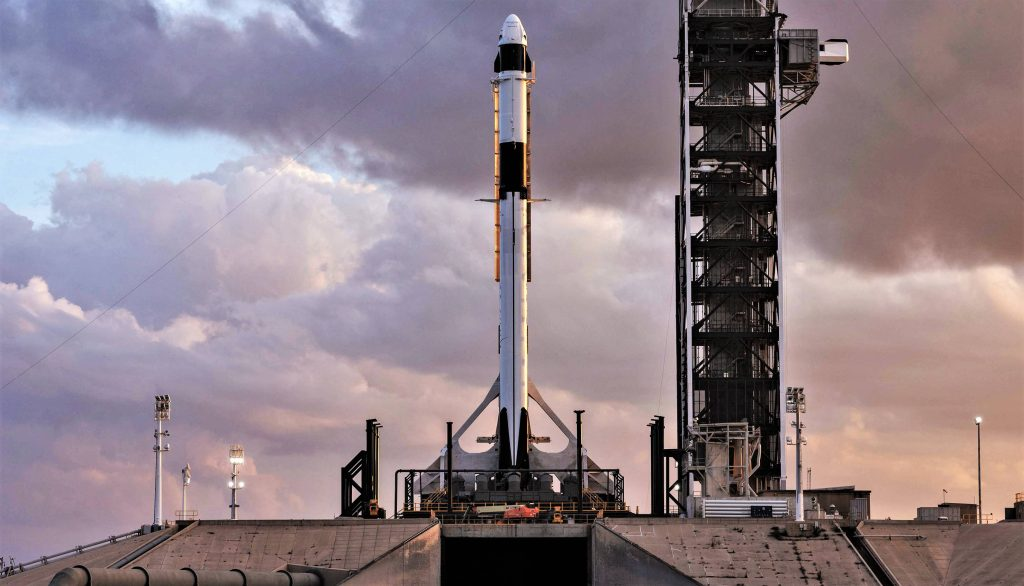falcon: (472, 8, 549, 485)
